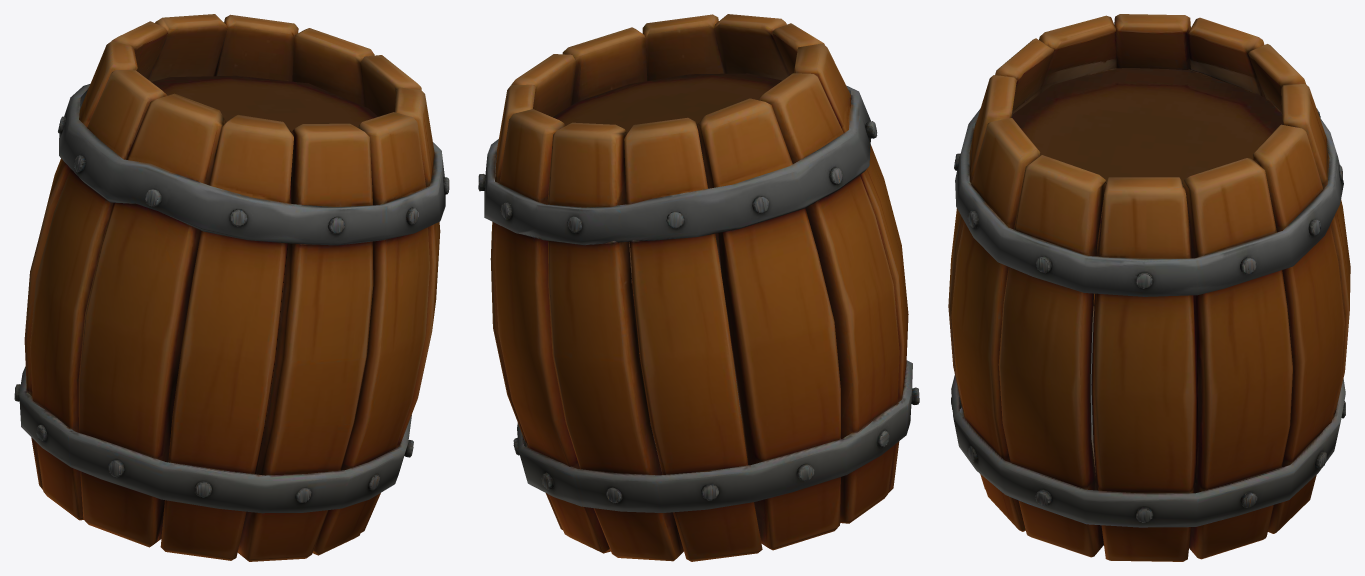
File: 17731955-aff0-49b4-a68c-d63e65303142_model.glb
The picture shows the model from 3 angles, left to right: view 1: azimuth 30°, elevation 25°; view 2: azimuth 150°, elevation 25°; view 3: azimuth 270°, elevation 25°; orthographic projection.
Parts seen in each view (by area): view 1: tripo_node_17731955-aff0-49b4-a68c-d63e65303142; view 2: tripo_node_17731955-aff0-49b4-a68c-d63e65303142; view 3: tripo_node_17731955-aff0-49b4-a68c-d63e65303142.
Part boxes in pixels (x1,y1,x2,y2): tripo_node_17731955-aff0-49b4-a68c-d63e65303142: (14, 14, 449, 561); tripo_node_17731955-aff0-49b4-a68c-d63e65303142: (478, 14, 919, 561); tripo_node_17731955-aff0-49b4-a68c-d63e65303142: (948, 14, 1350, 561).
Bounding box in the file's own units: 0.4833 × 0.55 × 0.4487.
1 material, 1 textured.
